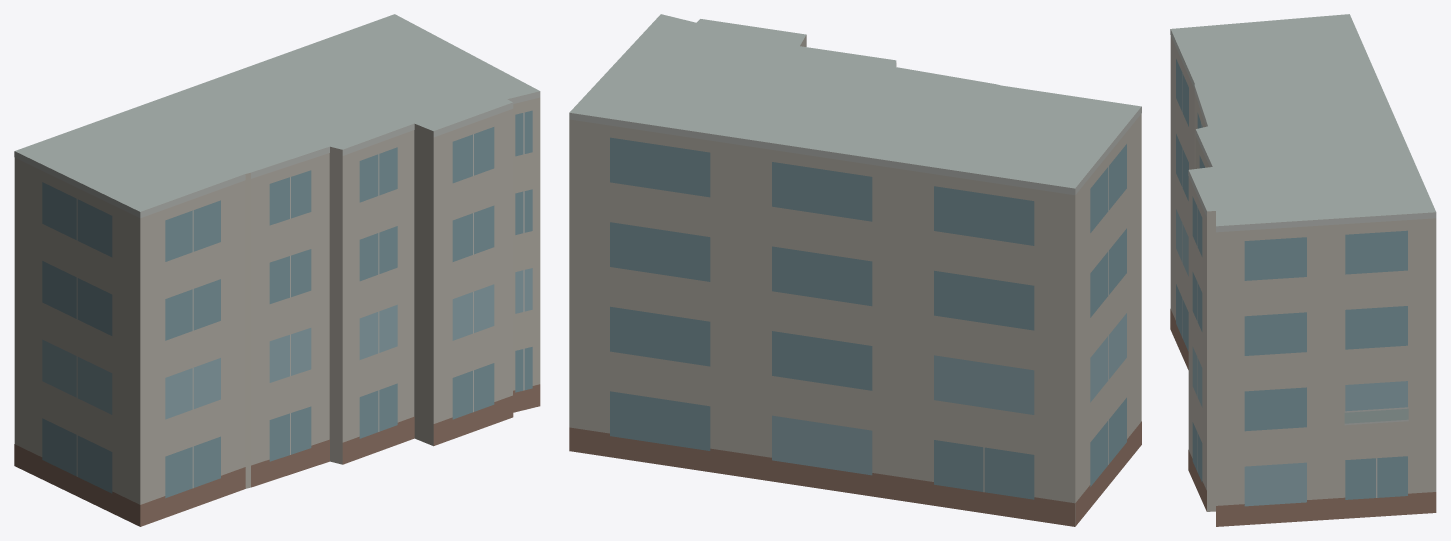
File: survey-upis-32957850.glb
The picture shows the model from 3 angles, left to right: view 1: azimuth 30°, elevation 25°; view 2: azimuth 150°, elevation 25°; view 3: azimuth 270°, elevation 25°; orthographic projection. The views are drawn at different scales.
Visible parts, largest first — view 1: survey-upis-32957850.tmp; view 2: survey-upis-32957850.tmp; view 3: survey-upis-32957850.tmp.
Boxes of the visible parts, x1,y1,x2,y2 form: survey-upis-32957850.tmp: (14,14,540,526); survey-upis-32957850.tmp: (569,14,1141,526); survey-upis-32957850.tmp: (1170,14,1436,526).
Size of the model in its own units: 18.44 by 12.17 by 9.76.
